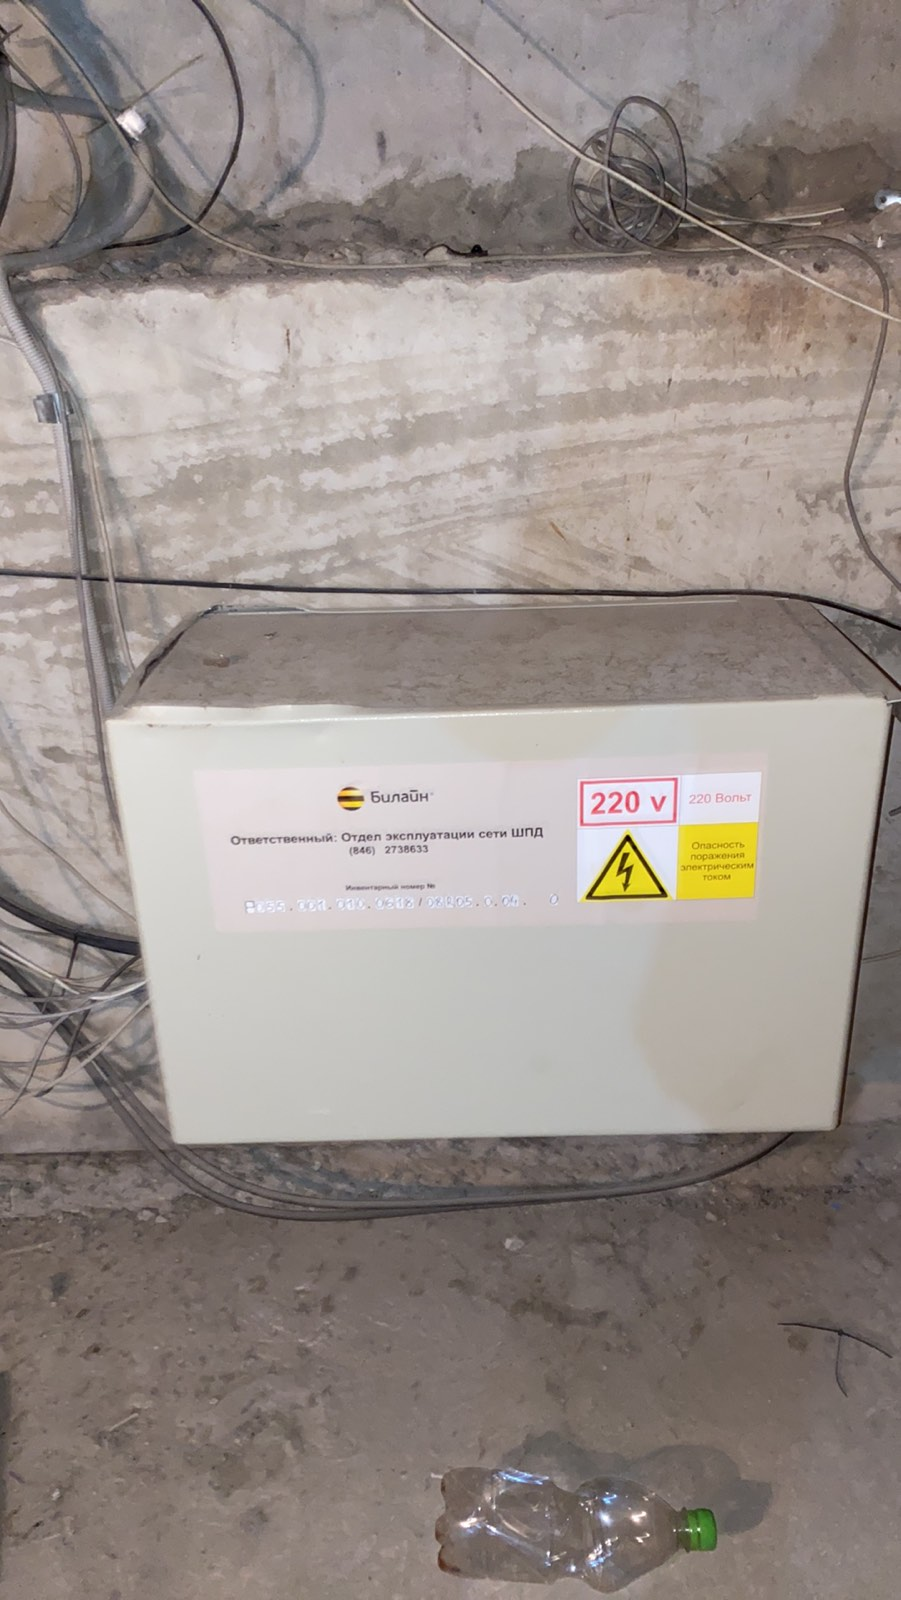sv-5: (86, 588, 896, 1159)
